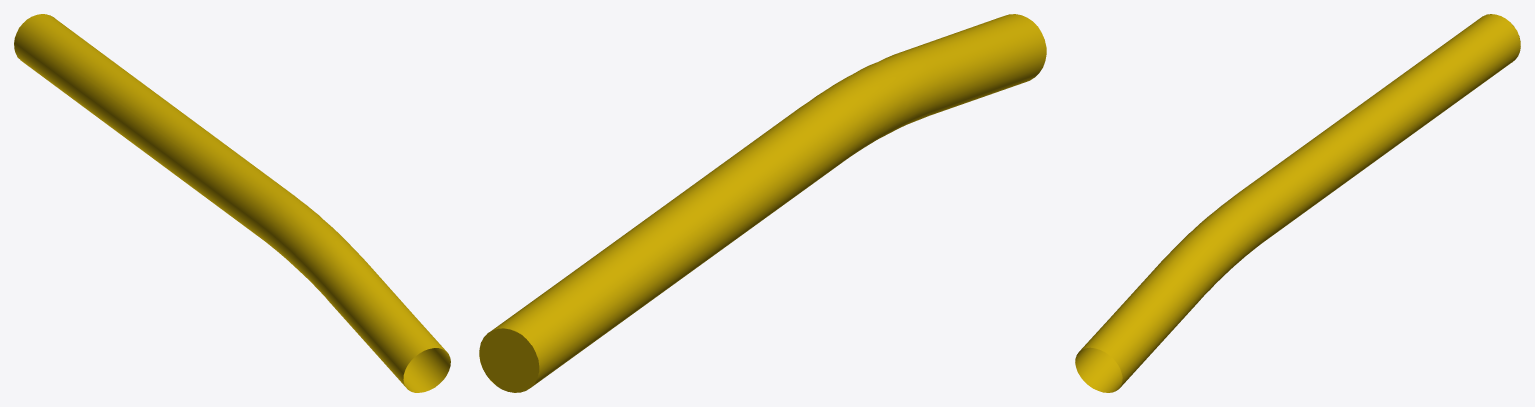
Rendered from original-11.obj.
3 views of the same model, side by side, from view 1: azimuth 30°, elevation 25°; view 2: azimuth 150°, elevation 25°; view 3: azimuth 330°, elevation 25° (orthographic). The views are drawn at different scales.
Parts seen in each view (by area): view 1: #ID59; view 2: #ID59; view 3: #ID59.
Part boxes in pixels (left/top/right/bottom): #ID59: left=14, top=14, right=450, bottom=392; #ID59: left=479, top=14, right=1046, bottom=392; #ID59: left=1075, top=14, right=1520, bottom=392.
Bounding box in the file's own units: 0.0272 × 0.0467 × 0.3679.
